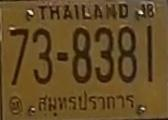1: (146, 25, 152, 77)
3: (32, 28, 52, 84), (94, 26, 113, 82)
7: (9, 28, 28, 84)
8: (71, 26, 91, 82), (117, 26, 136, 82)
SPK: (35, 92, 138, 117)
